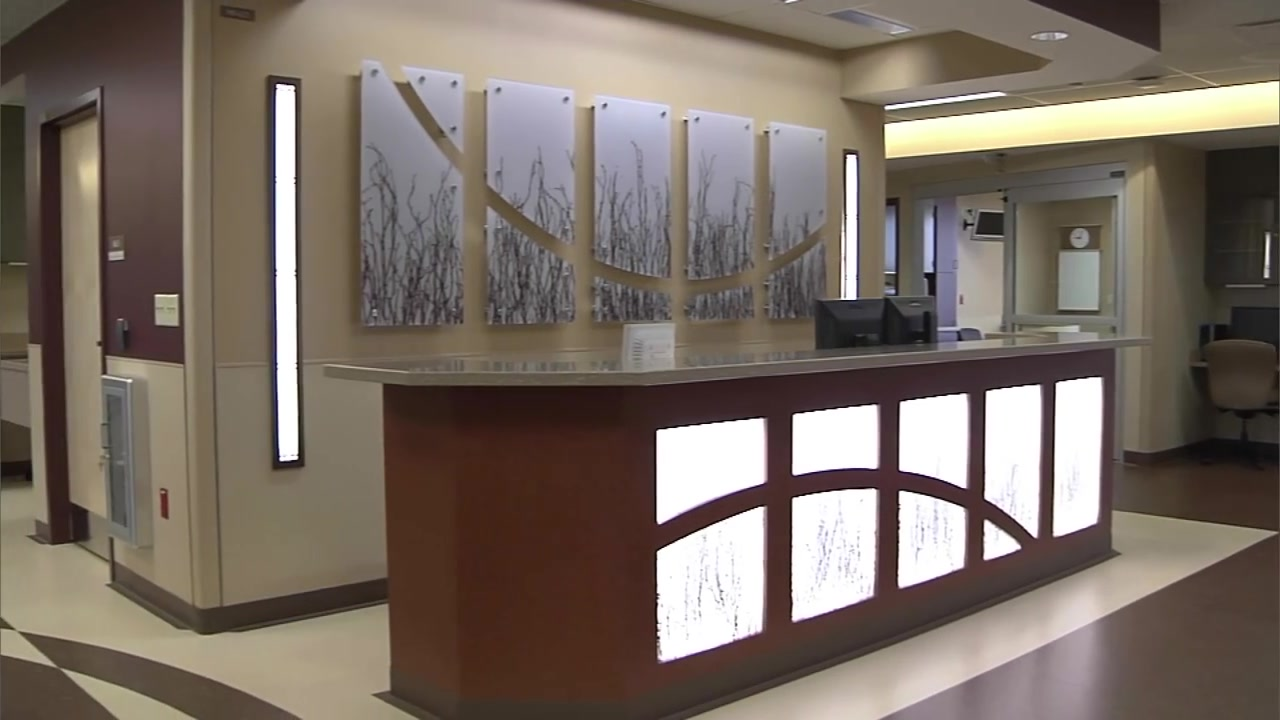TV: (974, 209, 1008, 242)
chair: (1206, 340, 1280, 468)
computer: (816, 296, 885, 347), (884, 295, 939, 343), (1230, 304, 1280, 342), (623, 324, 676, 359)
counter: (318, 329, 1130, 716)
countertop: (324, 334, 1153, 386), (1, 346, 28, 357)
handle: (1262, 228, 1272, 280), (98, 422, 112, 450)
light_switch: (152, 290, 182, 331)
medical_drawer: (1203, 146, 1280, 287)
